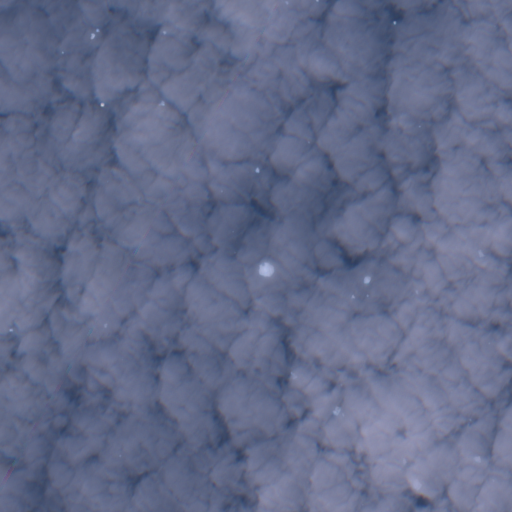Iceberg: (259, 262, 273, 276), (333, 406, 341, 415), (364, 276, 370, 283), (474, 456, 480, 462), (478, 250, 483, 256), (90, 33, 95, 38), (255, 167, 259, 172), (161, 101, 164, 105), (100, 103, 104, 106), (393, 21, 396, 24), (96, 29, 99, 31), (104, 324, 106, 327), (9, 329, 12, 331), (163, 31, 165, 33), (366, 294, 368, 296), (352, 295, 354, 297), (316, 0, 318, 1), (62, 52, 63, 53)
